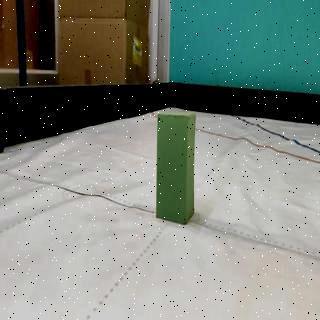greenbox: (156, 112, 197, 225)
